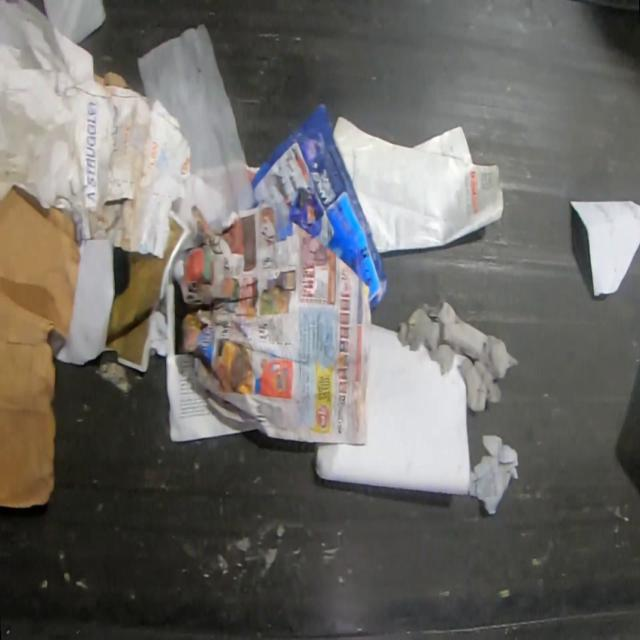cardboard: (0, 184, 80, 510), (92, 70, 134, 90)
